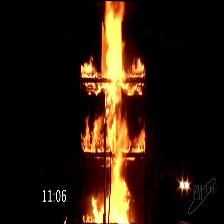fire: (99, 0, 132, 224)
